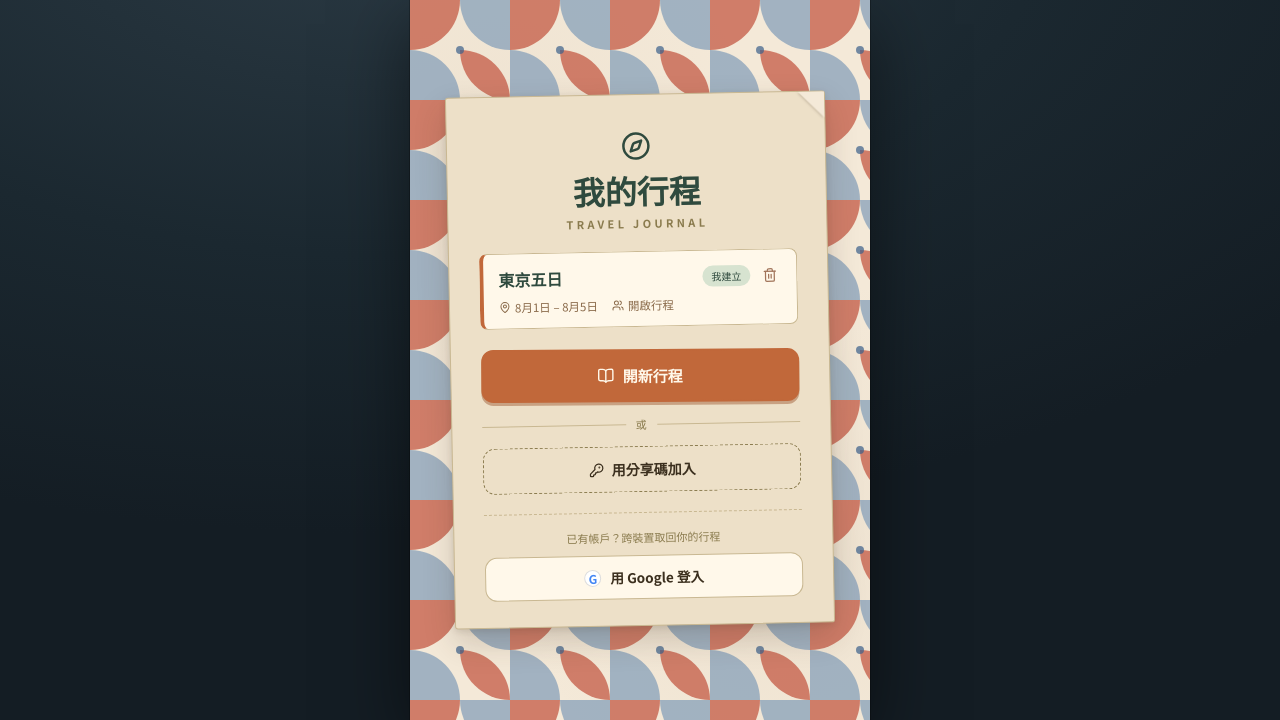
Test: Landing 刪除行程確認框（RLS 收窄後嘅登入 gate） › 未登入嘅 owner：唔出「徹底刪除」掣，改出登入提示（「從清單移除」照有）
Click the button named "管理 東京五日".
click(770, 274)  # box [758,263,782,286]
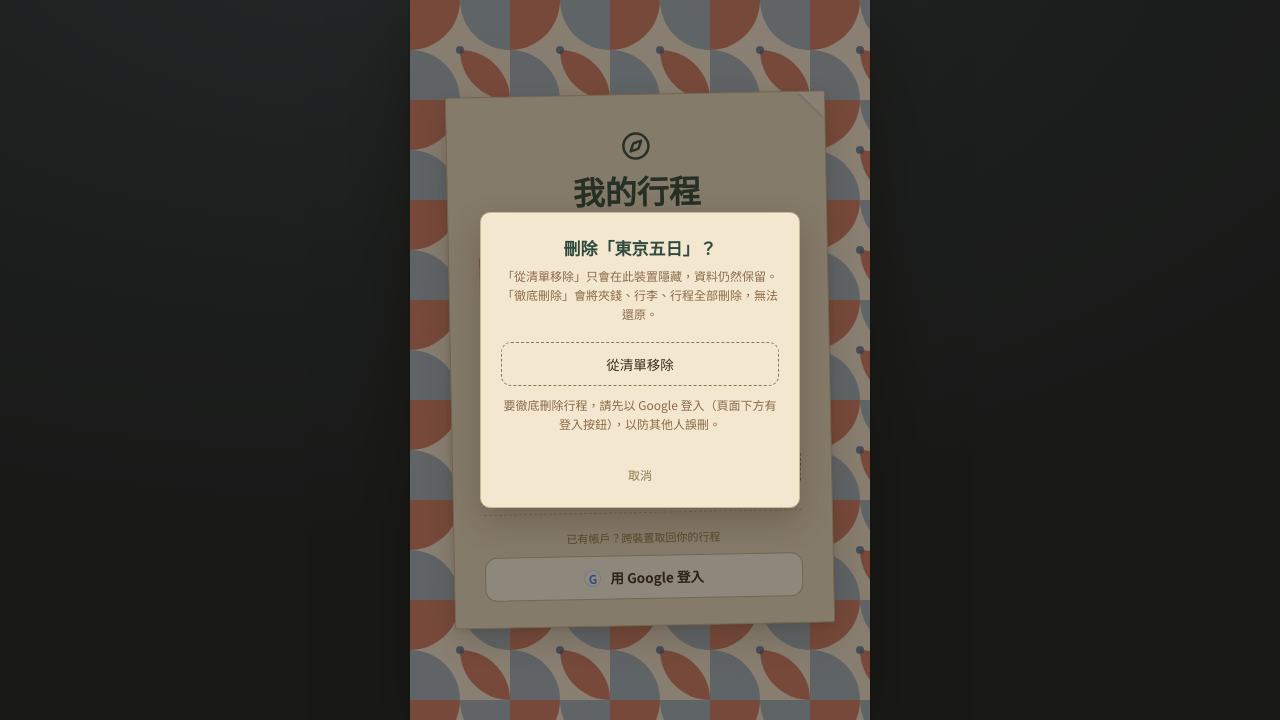
Result: the button "從清單移除" is shown at [501,342,779,386]
Result: the text "要徹底刪除行程，請先以 Google 登入（頁面下方有登入按鈕），以防其他人誤刪。" is shown at [501,395,779,433]
